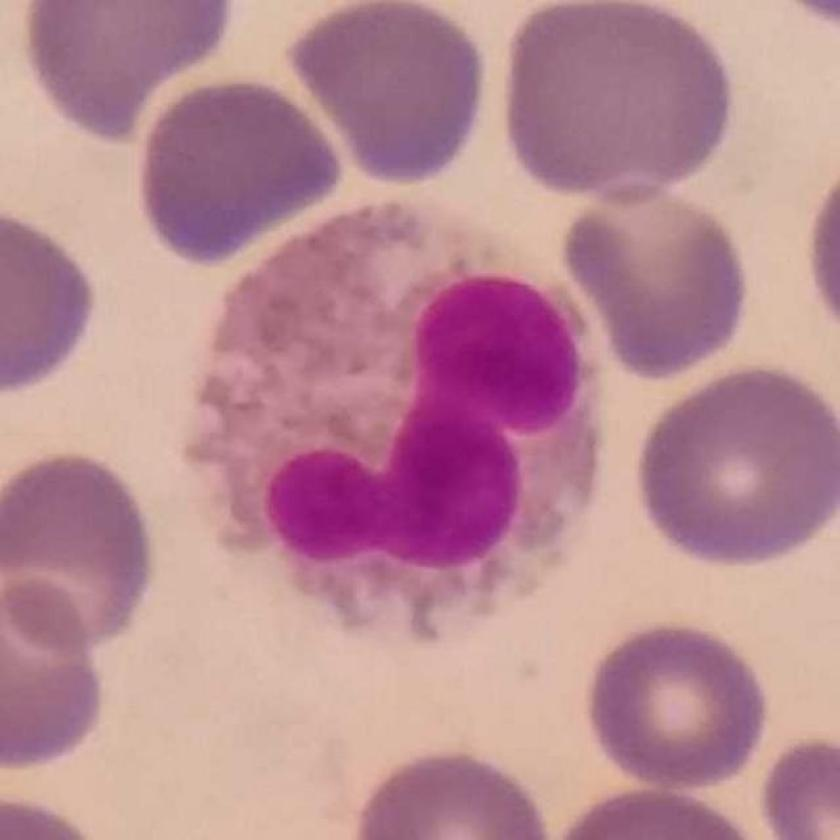eosinophil: (186, 198, 610, 644)
